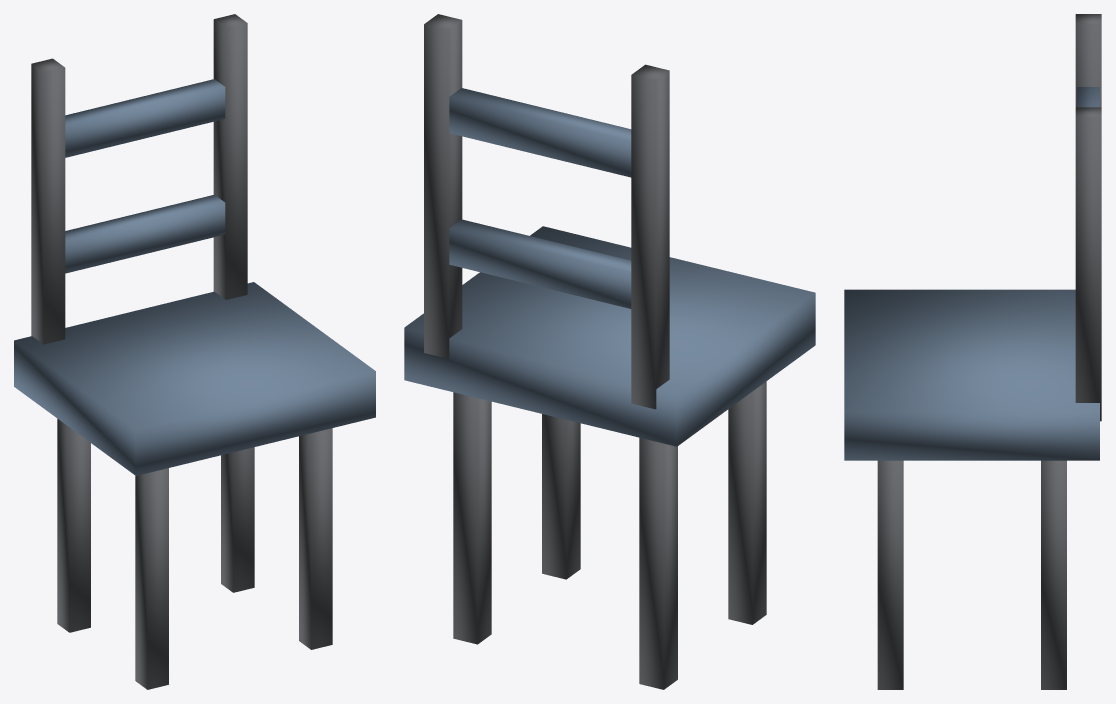
File: interview_chair__tall.glb
The picture shows the model from 3 angles, left to right: view 1: azimuth 30°, elevation 25°; view 2: azimuth 150°, elevation 25°; view 3: azimuth 270°, elevation 25°; orthographic projection. The views are drawn at different scales.
Visible parts, largest first — view 1: world; view 2: world; view 3: world.
Part boxes in pixels (<box>): world: <box>14,14,375,689</box>; world: <box>404,14,815,689</box>; world: <box>844,14,1101,689</box>.
Size of the model in its own units: 0.5037 by 1.1 by 0.4462.
